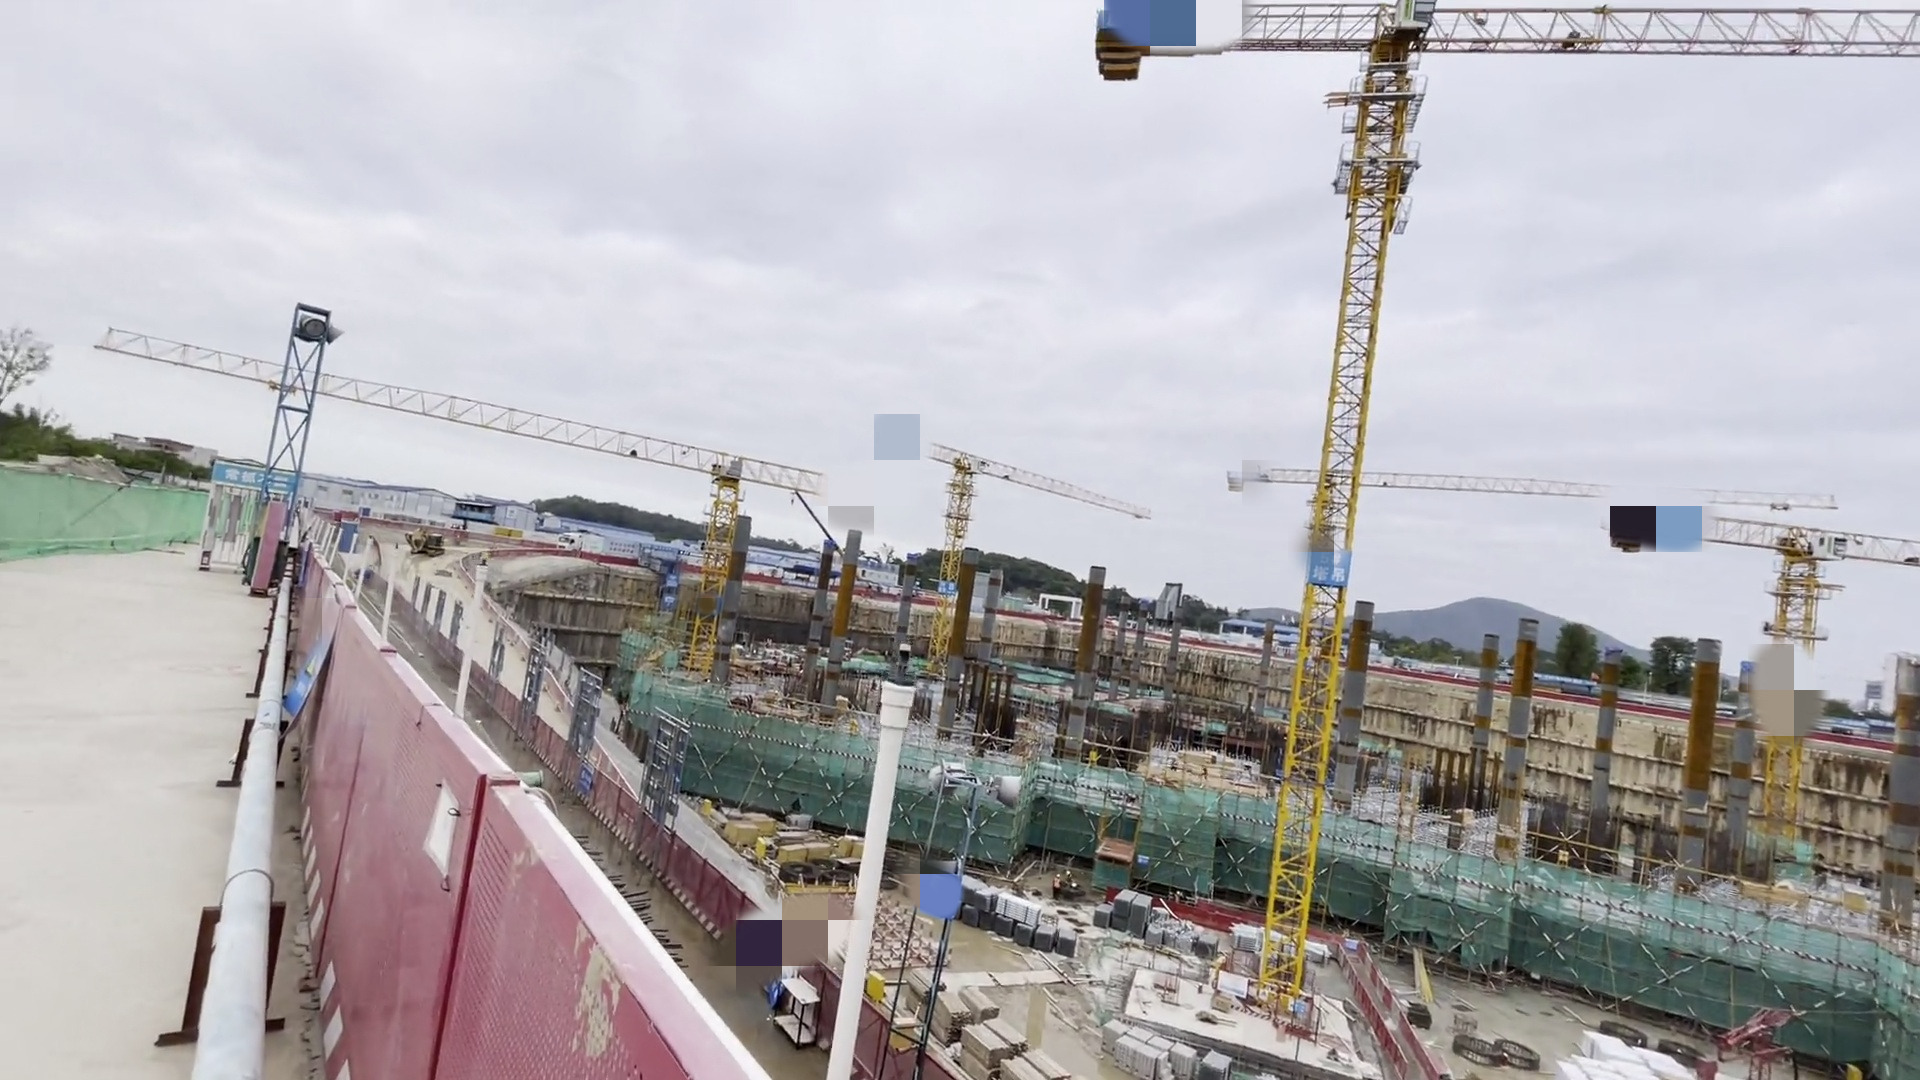fence: (262, 487, 764, 1060), (1292, 916, 1443, 1080)
scaffold: (1004, 918, 1085, 956), (1088, 885, 1154, 931), (963, 878, 1006, 934)
slogan: (273, 579, 353, 741), (218, 448, 313, 498), (1304, 541, 1352, 588), (655, 554, 686, 621)
wood: (931, 978, 978, 1046), (1010, 1042, 1069, 1080), (965, 1022, 1004, 1077), (913, 964, 945, 1018), (992, 1011, 1033, 1050), (968, 986, 996, 1023)
